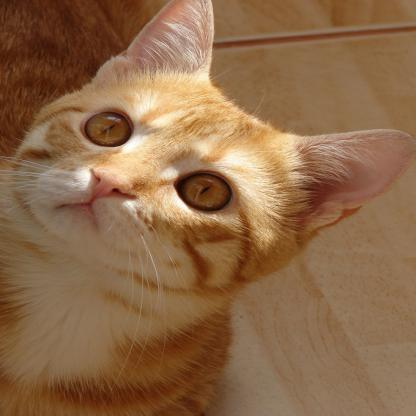cat: (6, 1, 416, 384)
